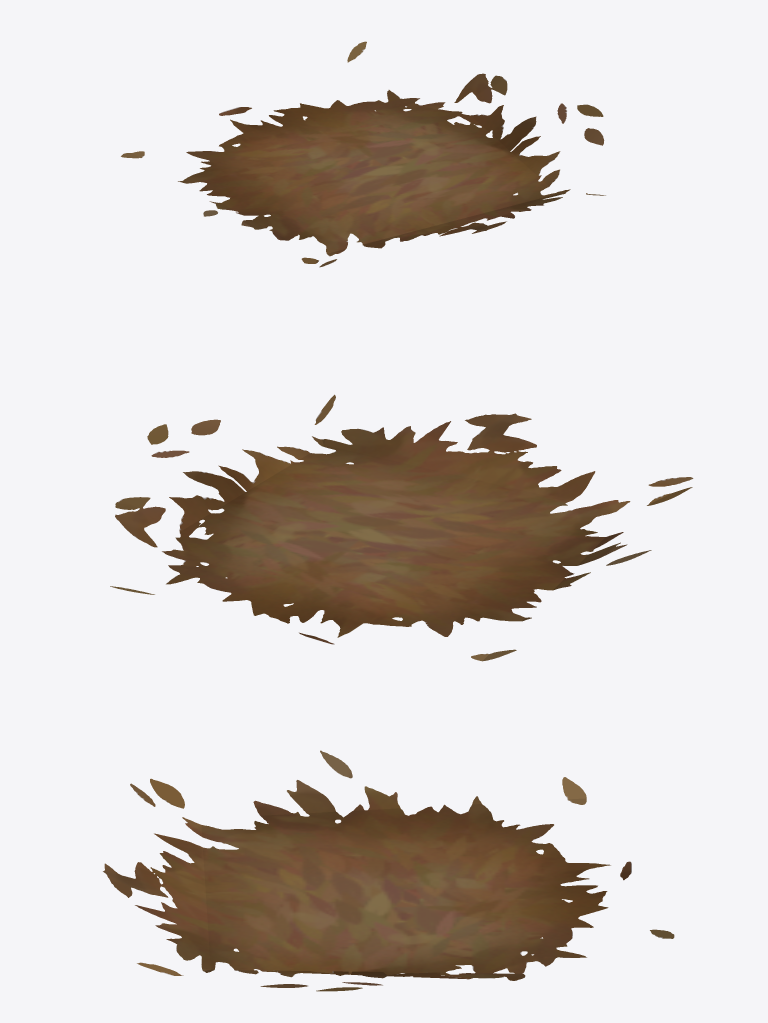
The model's file is leaves.fbx.
The picture shows the model from 3 angles, top to bottom: view 1: azimuth 30°, elevation 25°; view 2: azimuth 150°, elevation 25°; view 3: azimuth 270°, elevation 25°; orthographic projection. The views are drawn at different scales.
Visible parts, largest first — view 1: Plane.013; view 2: Plane.013; view 3: Plane.013.
Part boxes in pixels (x1,y1,x2,y2): Plane.013: (121,41,605,267); Plane.013: (110,394,693,661); Plane.013: (103,750,674,991).
Size of the model in its own units: 231 by 12.39 by 240.
